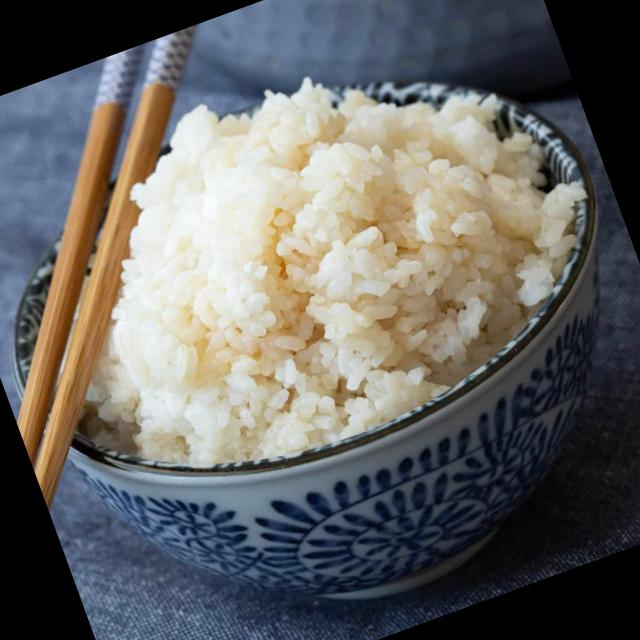rice: (76, 91, 578, 468)
